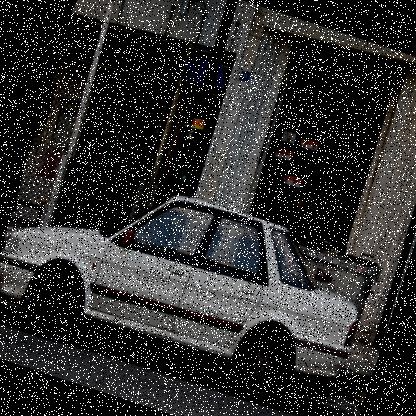Car: (0, 146, 381, 415)
